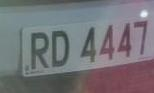4: (78, 22, 100, 69), (97, 20, 118, 67), (115, 19, 136, 65)
7: (133, 17, 152, 61)
D: (50, 26, 72, 71)
R: (28, 28, 51, 74)
